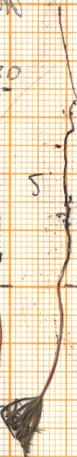flower: (0, 388, 64, 457)
root: (54, 0, 77, 282)
stem: (39, 288, 68, 396)
